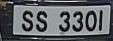0: (85, 9, 98, 34)
1: (96, 9, 105, 33)
3: (57, 11, 72, 33), (72, 10, 84, 33)
S: (34, 10, 49, 34), (21, 9, 35, 34)
